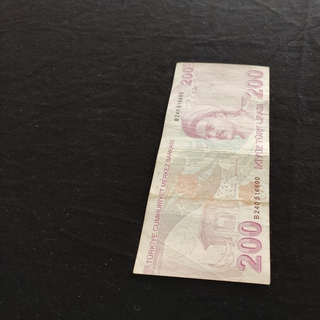200TLBack: (132, 61, 272, 284)
